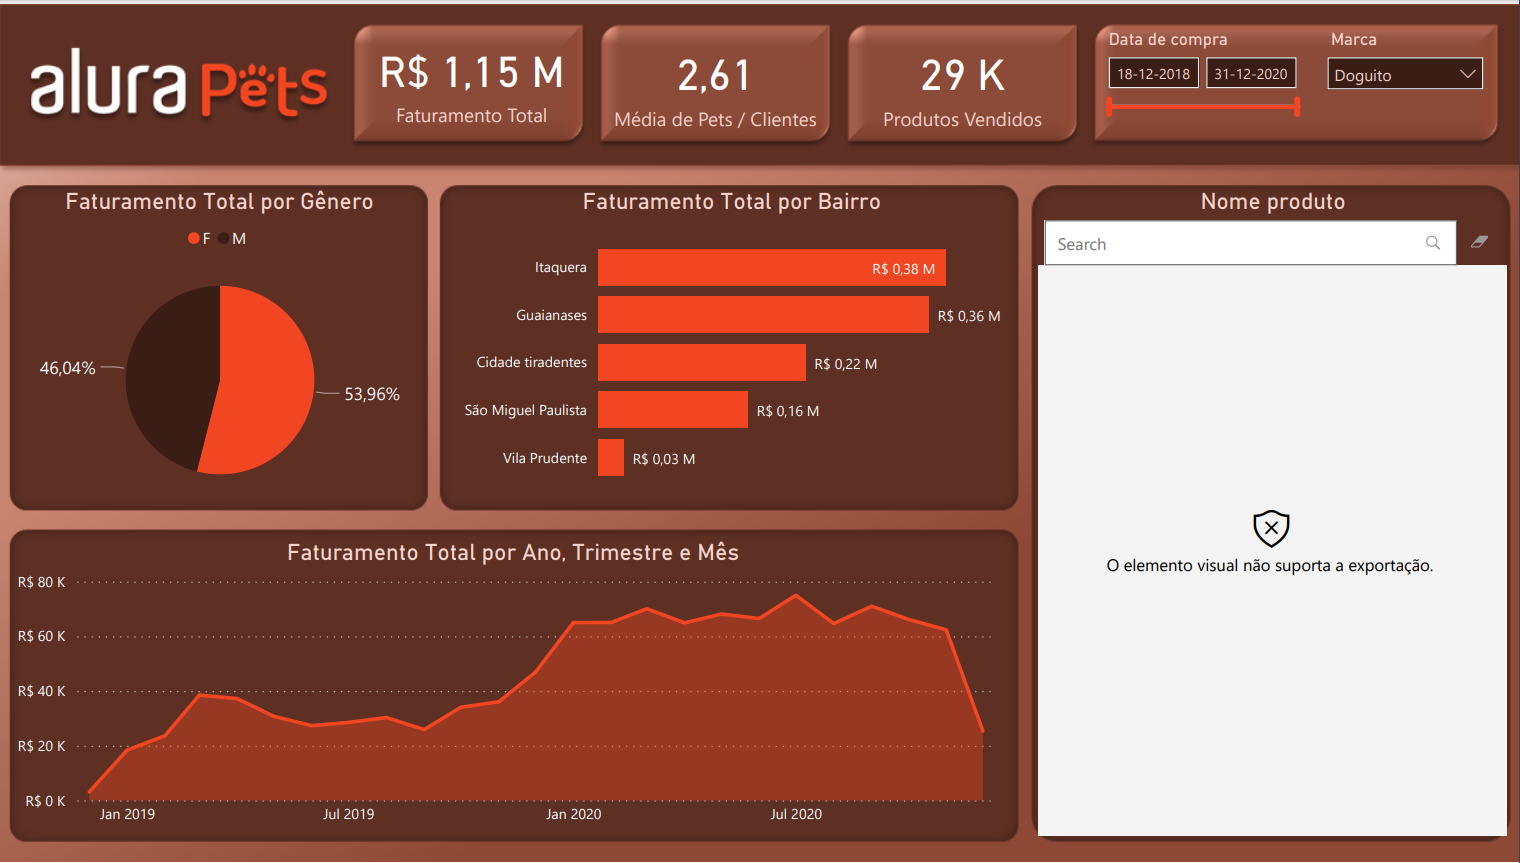

The page's visual inventory and layout, read from the dashboard file:
{"tool":"powerbi","page":{"name":"Página 1","canvas":[1280,720],"ordinal":0},"visuals":[{"type":"card","fields":{"Values":["fVendas.Faturamento Total"]},"box":[302.1,16.5,192.3,94.8],"z":0},{"type":"card","fields":{"Values":["Avg(dClientes.Pets)"]},"box":[508.2,20.6,189.5,90.6],"z":1},{"type":"card","fields":{"Values":["Sum(fVendas.Quantidade)"]},"box":[715.5,20.6,189.5,90.6],"z":2},{"type":"pieChart","fields":{"Category":["dClientes.Gênero"],"Y":["fVendas.Faturamento Total"]},"box":[9.9,153.5,351.6,272.3],"z":3},{"type":"clusteredBarChart","fields":{"Category":["dClientes.Bairro"],"Y":["fVendas.Faturamento Total"]},"box":[377.6,153.5,477.8,263.7],"z":4},{"type":"areaChart","fields":{"Category":["fVendas.Data de compra.Variation.Hierarquia de datas.Ano","fVendas.Data de compra.Variation.Hierarquia de datas.Trimestre","fVendas.Data de compra.Variation.Hierarquia de datas.Mês","fVendas.Data de compra.Variation.Hierarquia de datas.Dia"],"Y":["fVendas.Faturamento Total"]},"box":[9.9,449.4,845.5,250.1],"z":5},{"type":"ImageGrid_FC5183B9_926C_45E0_B5F7_0CE9EAF1DA9B","fields":{"ImageURLHQ":["dProdutos.Url img"]},"box":[875.2,219.1,394.9,480.3],"z":6},{"type":"textFilter25A4896A83E0487089E2B90C9AE57C8A","fields":{"field":["dProdutos.Nome produto"]},"box":[875.2,153.5,394.9,95.3],"z":7},{"type":"slicer","fields":{"Values":["dProdutos.Marca"]},"box":[1107.9,16.1,151,95.3],"z":8},{"type":"slicer","fields":{"Values":["fVendas.Data de compra"]},"box":[921,16.1,186.9,108.9],"z":9}]}

Visuals, with their boxes in screenshot pixels (x1, y1, x2, y2), scaled from the page's 1280x720 canvas onto the 1520x863 screenshot:
card - fVendas.Faturamento Total: 359/20/587/133
card - Avg(dClientes.Pets): 603/25/829/133
card - Sum(fVendas.Quantidade): 850/25/1075/133
pieChart - dClientes.Gênero x fVendas.Faturamento Total: 12/184/429/510
clusteredBarChart - dClientes.Bairro x fVendas.Faturamento Total: 448/184/1016/500
areaChart - fVendas.Data de compra.Variation.Hierarquia de datas.Ano x fVendas.Data de compra.Variation.Hierarquia de datas.Trimestre: 12/539/1016/838
ImageGrid_FC5183B9_926C_45E0_B5F7_0CE9EAF1DA9B - dProdutos.Url img: 1039/263/1508/838
textFilter25A4896A83E0487089E2B90C9AE57C8A - dProdutos.Nome produto: 1039/184/1508/298
slicer - dProdutos.Marca: 1316/19/1495/134
slicer - fVendas.Data de compra: 1094/19/1316/150
